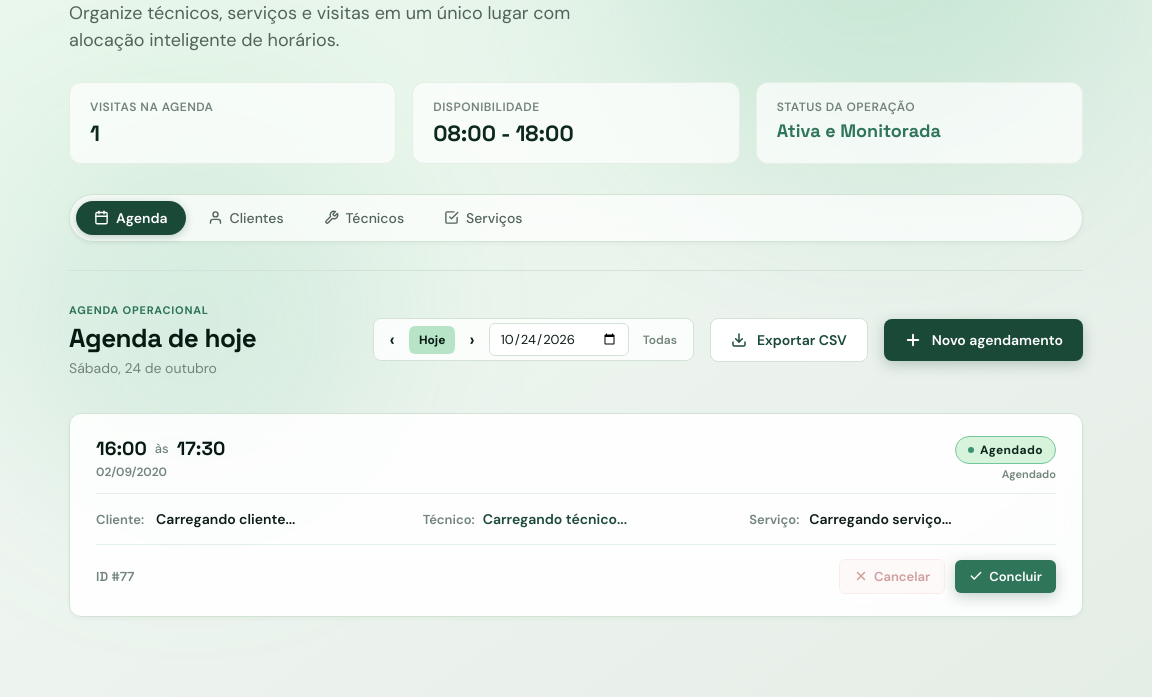
Test: FixTime shell & operational agenda › completes an appointment and updates status locally without full reload
(page scrolled)
Check: the text "ID #77" is shown, box [96,568,134,585]
Click the button with aria-label "Concluir agendamento #77".
click(1006, 576)  # box [955,560,1056,593]
(page scrolled)
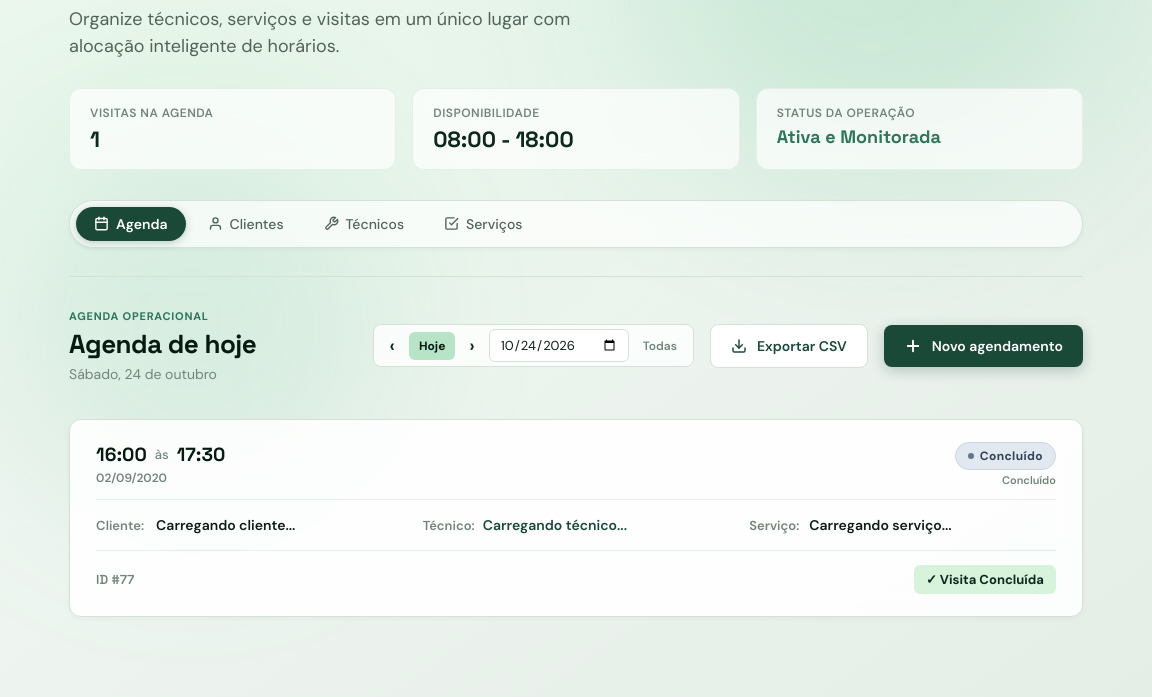
Check: the text "✓ Visita Concluída" is shown, box [914,565,1056,594]
Check: the text "Concluído" is shown, box [955,442,1056,470]
